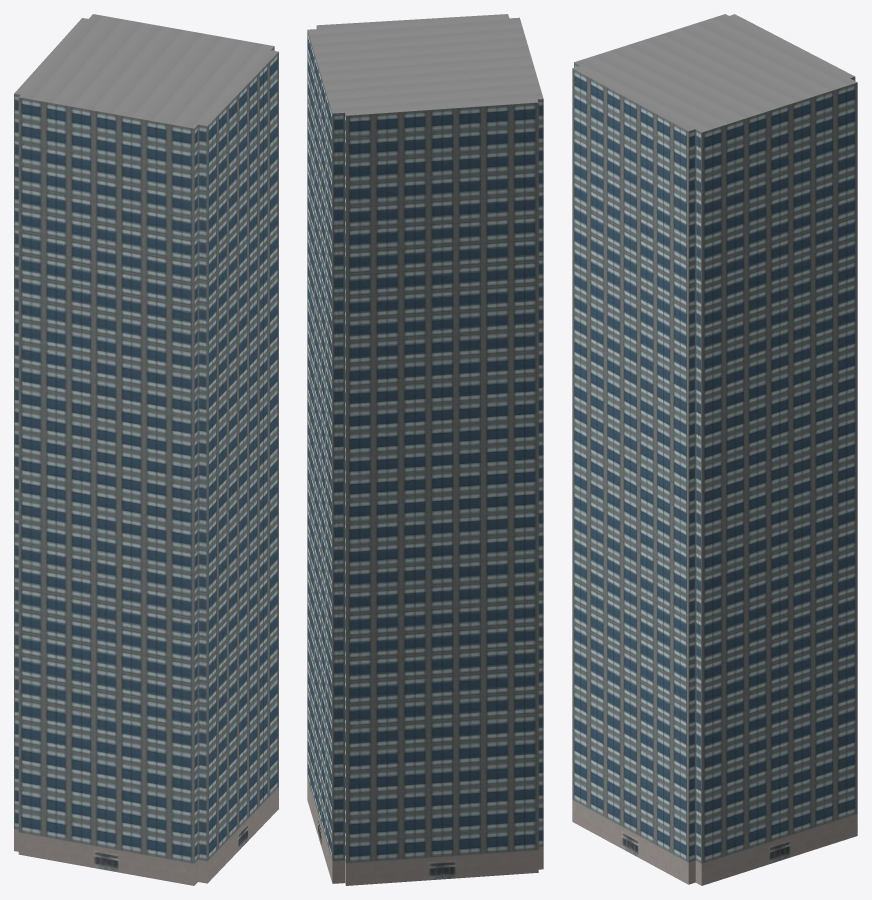
3 views of the same model, side by side, from view 1: azimuth 30°, elevation 25°; view 2: azimuth 150°, elevation 25°; view 3: azimuth 270°, elevation 25° (orthographic). The views are drawn at different scales.
Parts seen in each view (by area): view 1: BuildingMaster_2003193477814461406300000000_0, BuildingMaster_2003193477814461406300000000_1; view 2: BuildingMaster_2003193477814461406300000000_0, BuildingMaster_2003193477814461406300000000_1; view 3: BuildingMaster_2003193477814461406300000000_0, BuildingMaster_2003193477814461406300000000_1.
Part boxes in pixels (box(x1,y1,x2,y2)): BuildingMaster_2003193477814461406300000000_0: box(14, 46, 278, 885); BuildingMaster_2003193477814461406300000000_1: box(14, 14, 278, 128); BuildingMaster_2003193477814461406300000000_0: box(307, 26, 543, 885); BuildingMaster_2003193477814461406300000000_1: box(307, 14, 543, 115); BuildingMaster_2003193477814461406300000000_0: box(572, 62, 857, 885); BuildingMaster_2003193477814461406300000000_1: box(572, 14, 857, 132).
Size of the model in its own units: 40.15 by 119 by 40.87.
Materials: 2 (2 with a texture image).
